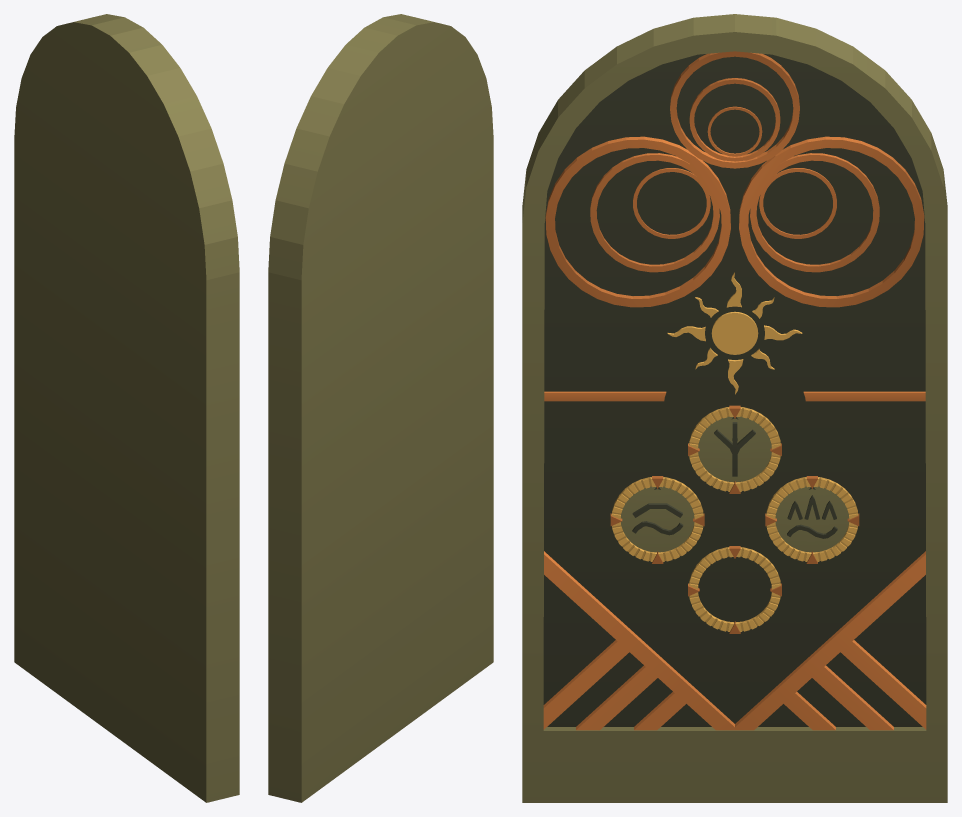
File: sealed_door.glb
The picture shows the model from 3 angles, left to right: view 1: azimuth 30°, elevation 25°; view 2: azimuth 150°, elevation 25°; view 3: azimuth 270°, elevation 25°; orthographic projection. The views are drawn at different scales.
Parts seen in each view (by area): view 1: base_door; view 2: base_door; view 3: base_door, ornament_circles_left, ornament_circles_right, ornament_bottom_right, ornament_bottom_left, ornament_circles_top, Cylinder.010, Cylinder.012, Cylinder.011, sun_sigil, ornament_center, symbol_top_outer_circle.004 (+3 smaller).
Boxes of the visible parts, x1,y1,x2,y2 form: base_door: (14,14,239,802); base_door: (268,14,493,802); base_door: (522,14,947,802); ornament_circles_left: (545,136,730,307); ornament_circles_right: (739,136,924,307); ornament_bottom_right: (732,551,926,730); ornament_bottom_left: (543,551,736,730); ornament_circles_top: (670,51,799,168); Cylinder.010: (698,416,771,482); Cylinder.012: (775,486,848,552); Cylinder.011: (621,486,694,552); sun_sigil: (667,272,802,394); ornament_center: (544,391,925,401); symbol_top_outer_circle.004: (689,547,780,631).
Bounding box in the file's own units: 0.22 × 4.4 × 2.2.
5 materials, 5 textured.
